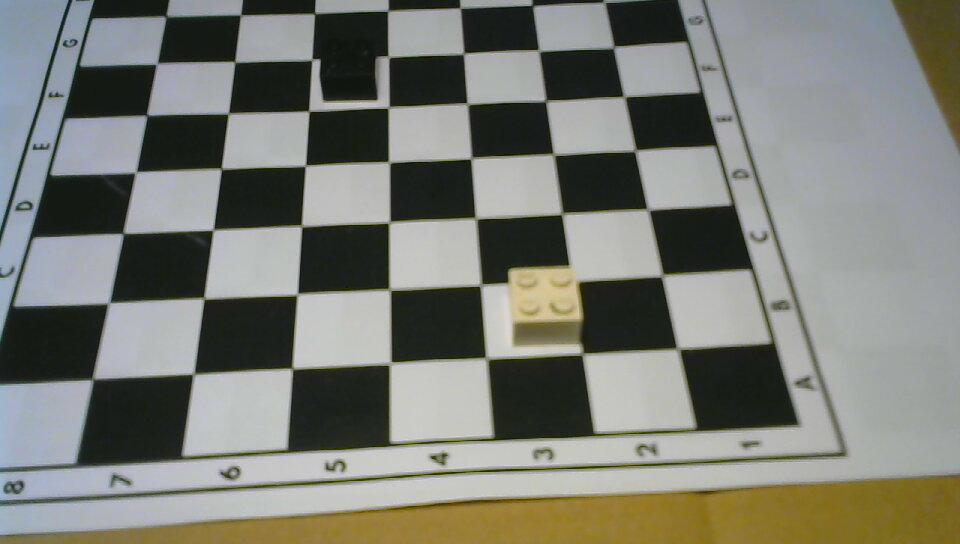bp: (318, 39, 377, 101)
wp: (505, 263, 583, 347)
